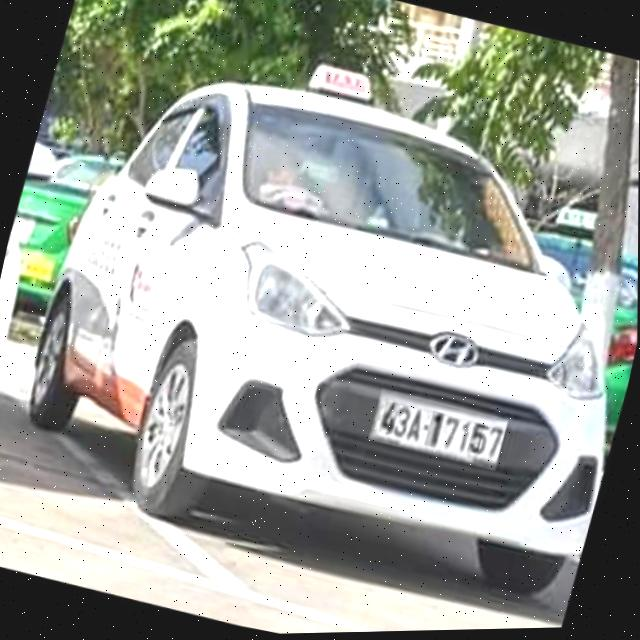car: (0, 30, 640, 640)
plate: (355, 378, 522, 482)
